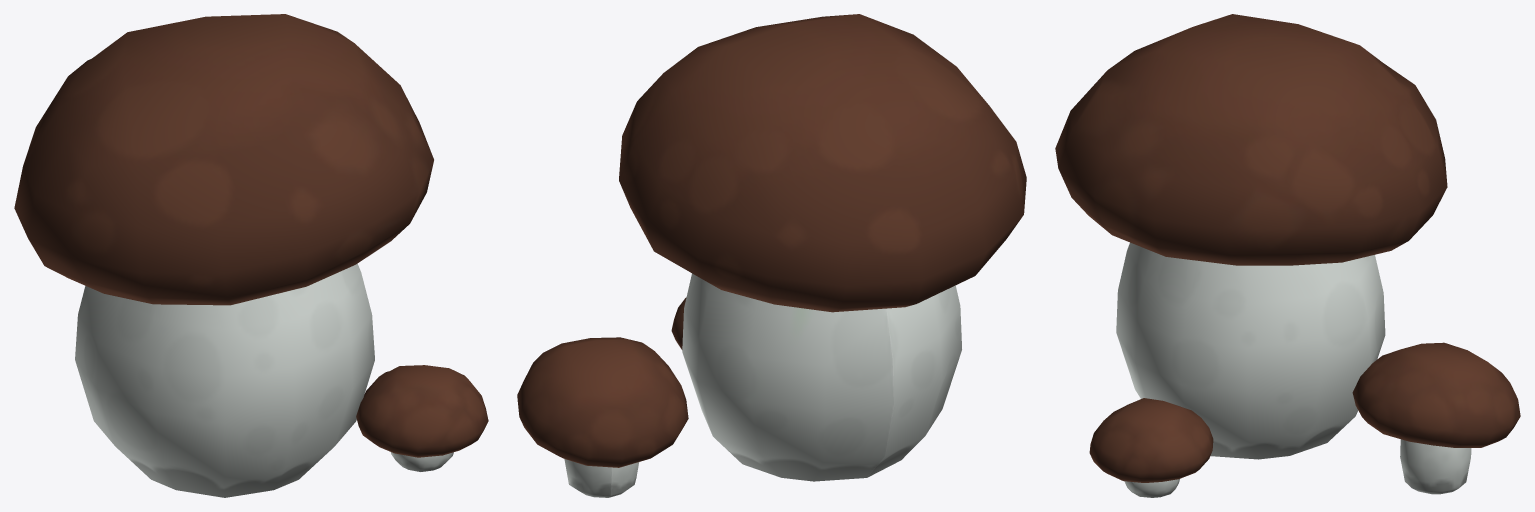
File: houba_hrib.glb
3 renders of one model, left to right at view 1: azimuth 30°, elevation 25°; view 2: azimuth 150°, elevation 25°; view 3: azimuth 270°, elevation 25°, orthographic. The views are drawn at different scales.
Parts seen in each view (by area): view 1: houba_hrib; view 2: houba_hrib; view 3: houba_hrib.
Part boxes in pixels (box(x1,y1,x2,y2)): houba_hrib: box(14, 14, 488, 497); houba_hrib: box(517, 14, 1026, 497); houba_hrib: box(1055, 14, 1520, 497).
Size of the model in its own units: 0.0986 by 0.1008 by 0.1101.
Materials: 1 (1 with a texture image).
